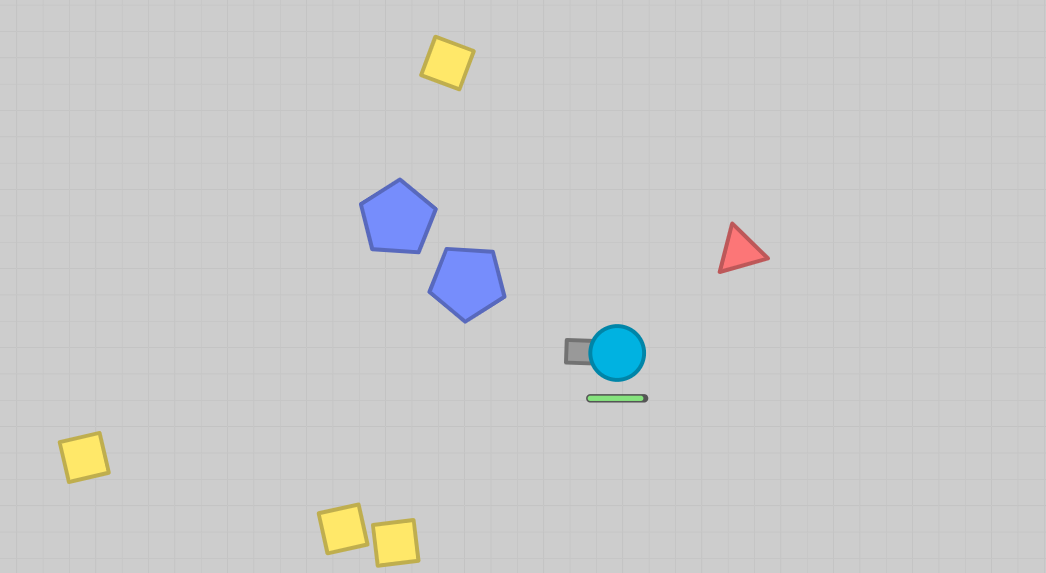Pentagon: (353, 174, 439, 260), (425, 246, 509, 327)
Player: (559, 321, 650, 386)
Square: (415, 33, 477, 94), (55, 429, 114, 488), (311, 499, 370, 557), (370, 514, 424, 566)
Triangle: (712, 219, 772, 279)
